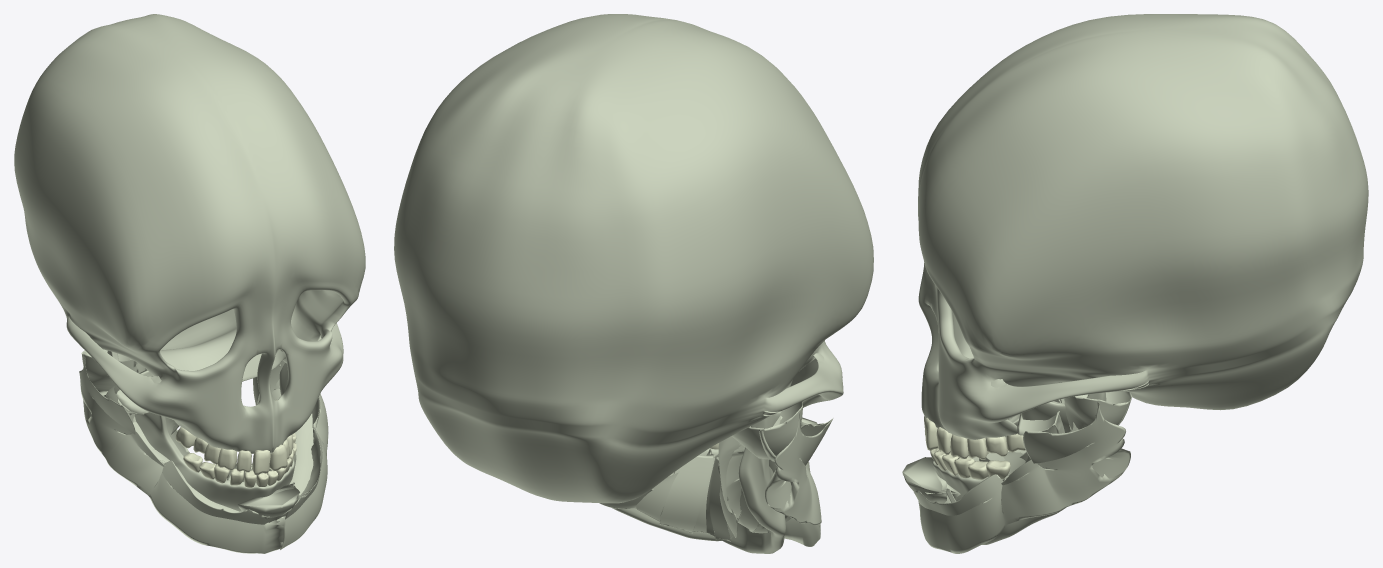
Rendered from skull.fbx.
The picture shows the model from 3 angles, left to right: view 1: azimuth 30°, elevation 25°; view 2: azimuth 150°, elevation 25°; view 3: azimuth 270°, elevation 25°; orthographic projection. The views are drawn at different scales.
Parts seen in each view (by area): view 1: Skull, Jaw, Skull Teeth, Jaw Teeth; view 2: Skull, Jaw; view 3: Skull, Jaw, Skull Teeth, Jaw Teeth.
Part boxes in pixels (left/top/right/bottom): Skull: left=14, top=14, right=365, bottom=453; Jaw: left=79, top=349, right=328, bottom=553; Skull Teeth: left=175, top=399, right=293, bottom=474; Jaw Teeth: left=183, top=433, right=296, bottom=487; Skull: left=394, top=14, right=873, bottom=503; Jaw: left=599, top=401, right=833, bottom=553; Skull: left=918, top=14, right=1368, bottom=439; Jaw: left=902, top=391, right=1132, bottom=553; Skull Teeth: left=924, top=416, right=1025, bottom=459; Jaw Teeth: left=930, top=419, right=1010, bottom=479.
Bounding box in the file's own units: 0.7831 × 1.32 × 1.1.
